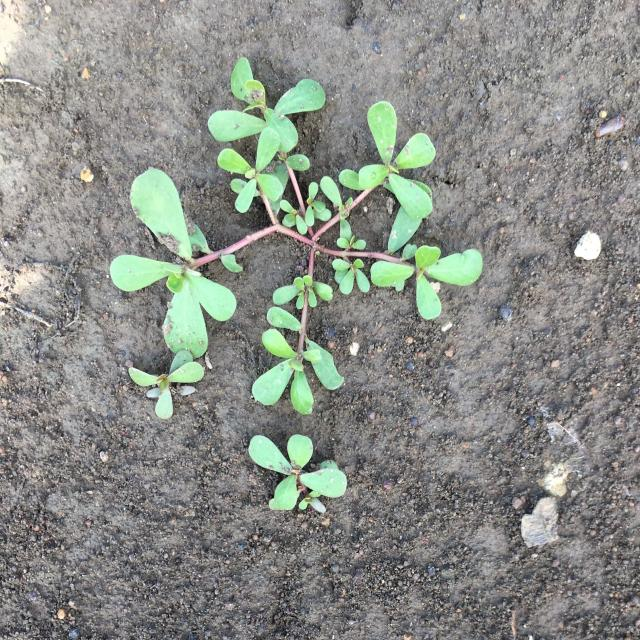Purslane: (110, 57, 483, 416), (248, 434, 348, 514), (128, 350, 205, 420)
